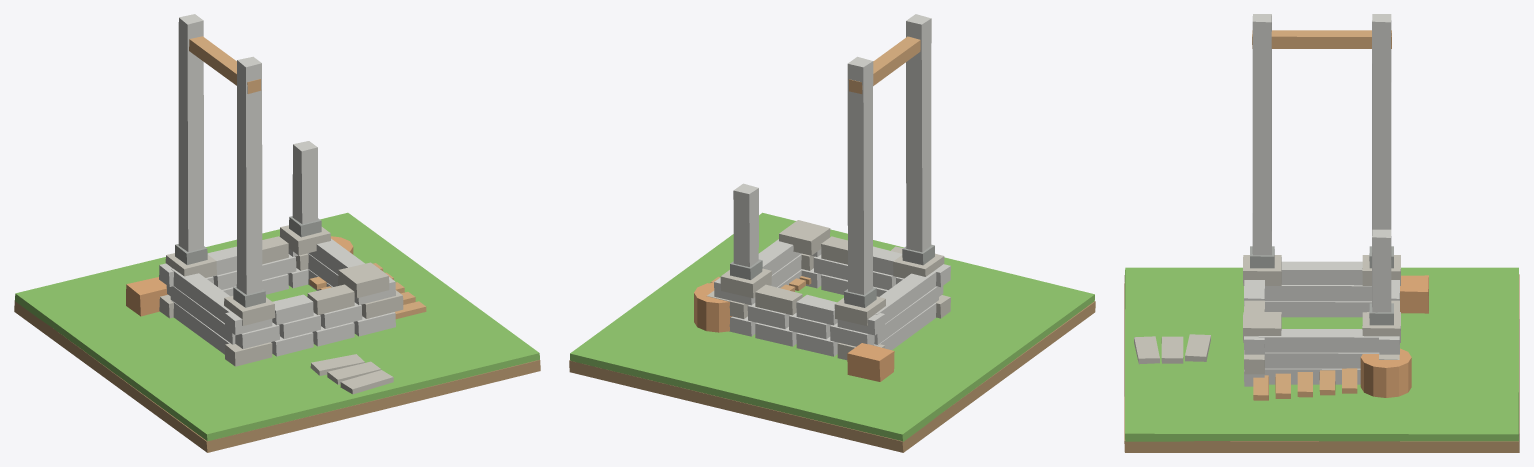
File: tower_l06_construction_LOD2.glb
3 views of the same model, side by side, from view 1: azimuth 30°, elevation 25°; view 2: azimuth 150°, elevation 25°; view 3: azimuth 270°, elevation 25° (orthographic). The views are drawn at different scales.
Visible parts, largest first — view 1: tower_l06_grass_tile_tower_l06_construction_LOD2_tmp, tower_l06_earth_tile_tower_l06_construction_LOD2_tmp, post_-0.61_-0.54_tower_l06_construction_LOD2_tmp, post_-0.61_0.54_tower_l06_construction_LOD2_tmp, post_0.61_0.54_tower_l06_construction_LOD2_tmp, stone_return_2_-0.72_tower_l06_construction_LOD2_tmp, foot_0.61_-0.54_tower_l06_construction_LOD2_tmp, temporary_crossbar_tower_l06_construction_LOD2_tmp, unmounted_instrument_case_tower_l06_construction_LOD2_tmp, stone_course_2_-1_2_tower_l06_construction_LOD2_tmp, stone_return_1_-0.72_tower_l06_construction_LOD2_tmp, stone_return_2_0.72_tower_l06_construction_LOD2_tmp (+20 smaller); view 2: tower_l06_grass_tile_tower_l06_construction_LOD2_tmp, tower_l06_earth_tile_tower_l06_construction_LOD2_tmp, post_-0.61_0.54_tower_l06_construction_LOD2_tmp, post_-0.61_-0.54_tower_l06_construction_LOD2_tmp, post_0.61_0.54_tower_l06_construction_LOD2_tmp, unmounted_instrument_case_tower_l06_construction_LOD2_tmp, stone_return_2_-0.72_tower_l06_construction_LOD2_tmp, unmounted_relay_drum_tower_l06_construction_LOD2_tmp, temporary_crossbar_tower_l06_construction_LOD2_tmp, foot_0.61_-0.54_tower_l06_construction_LOD2_tmp, stone_course_2_1_2_tower_l06_construction_LOD2_tmp, stone_return_1_-0.72_tower_l06_construction_LOD2_tmp (+15 smaller); view 3: tower_l06_grass_tile_tower_l06_construction_LOD2_tmp, tower_l06_earth_tile_tower_l06_construction_LOD2_tmp, post_-0.61_-0.54_tower_l06_construction_LOD2_tmp, post_-0.61_0.54_tower_l06_construction_LOD2_tmp, stone_return_2_0.72_tower_l06_construction_LOD2_tmp, unmounted_relay_drum_tower_l06_construction_LOD2_tmp, stone_return_2_-0.72_tower_l06_construction_LOD2_tmp, temporary_crossbar_tower_l06_construction_LOD2_tmp, stone_return_1_-0.72_tower_l06_construction_LOD2_tmp, post_0.61_0.54_tower_l06_construction_LOD2_tmp, stone_return_1_0.72_tower_l06_construction_LOD2_tmp, stone_return_0_-0.72_tower_l06_construction_LOD2_tmp (+18 smaller).
Boxes of the visible parts, box(x1,y1,x2,y2) form: tower_l06_grass_tile_tower_l06_construction_LOD2_tmp: box(15, 212, 539, 441); tower_l06_earth_tile_tower_l06_construction_LOD2_tmp: box(14, 300, 540, 452); post_-0.61_-0.54_tower_l06_construction_LOD2_tmp: box(236, 56, 262, 294); post_-0.61_0.54_tower_l06_construction_LOD2_tmp: box(178, 14, 203, 251); post_0.61_0.54_tower_l06_construction_LOD2_tmp: box(292, 141, 317, 224); stone_return_2_-0.72_tower_l06_construction_LOD2_tmp: box(171, 268, 231, 323); foot_0.61_-0.54_tower_l06_construction_LOD2_tmp: box(338, 262, 389, 298); temporary_crossbar_tower_l06_construction_LOD2_tmp: box(189, 36, 261, 93); unmounted_instrument_case_tower_l06_construction_LOD2_tmp: box(126, 277, 167, 316); stone_course_2_-1_2_tower_l06_construction_LOD2_tmp: box(307, 284, 354, 314); stone_return_1_-0.72_tower_l06_construction_LOD2_tmp: box(170, 286, 235, 344); stone_return_2_0.72_tower_l06_construction_LOD2_tmp: box(308, 238, 364, 274); tower_l06_grass_tile_tower_l06_construction_LOD2_tmp: box(570, 212, 1094, 441); tower_l06_earth_tile_tower_l06_construction_LOD2_tmp: box(569, 301, 1095, 452); post_-0.61_0.54_tower_l06_construction_LOD2_tmp: box(847, 56, 873, 294); post_-0.61_-0.54_tower_l06_construction_LOD2_tmp: box(906, 14, 931, 252); post_0.61_0.54_tower_l06_construction_LOD2_tmp: box(733, 183, 758, 266); unmounted_instrument_case_tower_l06_construction_LOD2_tmp: box(847, 343, 894, 381); stone_return_2_-0.72_tower_l06_construction_LOD2_tmp: box(875, 271, 936, 323); unmounted_relay_drum_tower_l06_construction_LOD2_tmp: box(694, 282, 731, 332); temporary_crossbar_tower_l06_construction_LOD2_tmp: box(848, 36, 920, 93); foot_0.61_-0.54_tower_l06_construction_LOD2_tmp: box(779, 220, 830, 255); stone_course_2_1_2_tower_l06_construction_LOD2_tmp: box(755, 284, 802, 315); stone_return_1_-0.72_tower_l06_construction_LOD2_tmp: box(874, 286, 939, 344); tower_l06_grass_tile_tower_l06_construction_LOD2_tmp: box(1125, 267, 1518, 441); tower_l06_earth_tile_tower_l06_construction_LOD2_tmp: box(1124, 274, 1519, 452); post_-0.61_-0.54_tower_l06_construction_LOD2_tmp: box(1252, 14, 1271, 255); post_-0.61_0.54_tower_l06_construction_LOD2_tmp: box(1372, 14, 1391, 235); stone_return_2_0.72_tower_l06_construction_LOD2_tmp: box(1258, 329, 1379, 352); unmounted_relay_drum_tower_l06_construction_LOD2_tmp: box(1360, 348, 1411, 397); stone_return_2_-0.72_tower_l06_construction_LOD2_tmp: box(1281, 261, 1362, 285); temporary_crossbar_tower_l06_construction_LOD2_tmp: box(1252, 30, 1391, 48); stone_return_1_-0.72_tower_l06_construction_LOD2_tmp: box(1265, 285, 1371, 301); post_0.61_0.54_tower_l06_construction_LOD2_tmp: box(1372, 229, 1391, 312); stone_return_1_0.72_tower_l06_construction_LOD2_tmp: box(1264, 352, 1379, 368); stone_return_0_-0.72_tower_l06_construction_LOD2_tmp: box(1265, 301, 1371, 317).
Bounding box in the file's own units: 3.57 × 3.22 × 3.57.
